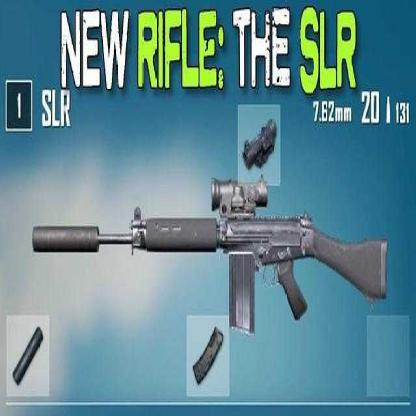rifle: (23, 193, 403, 324)
